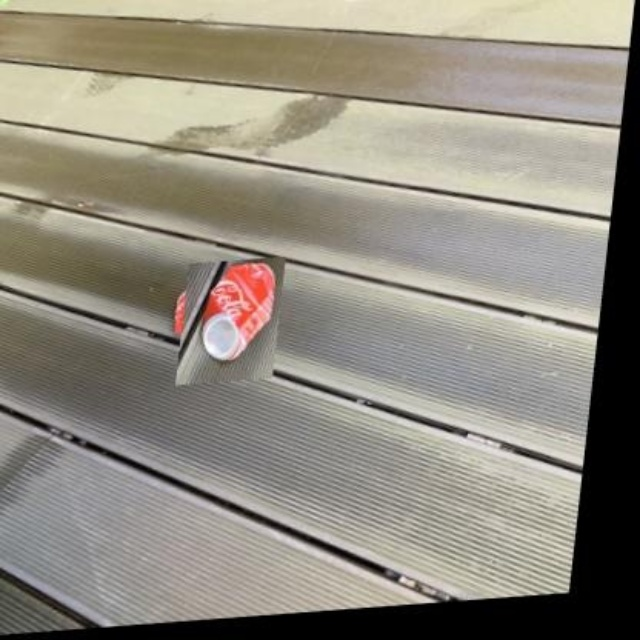trash: (202, 262, 274, 358)
